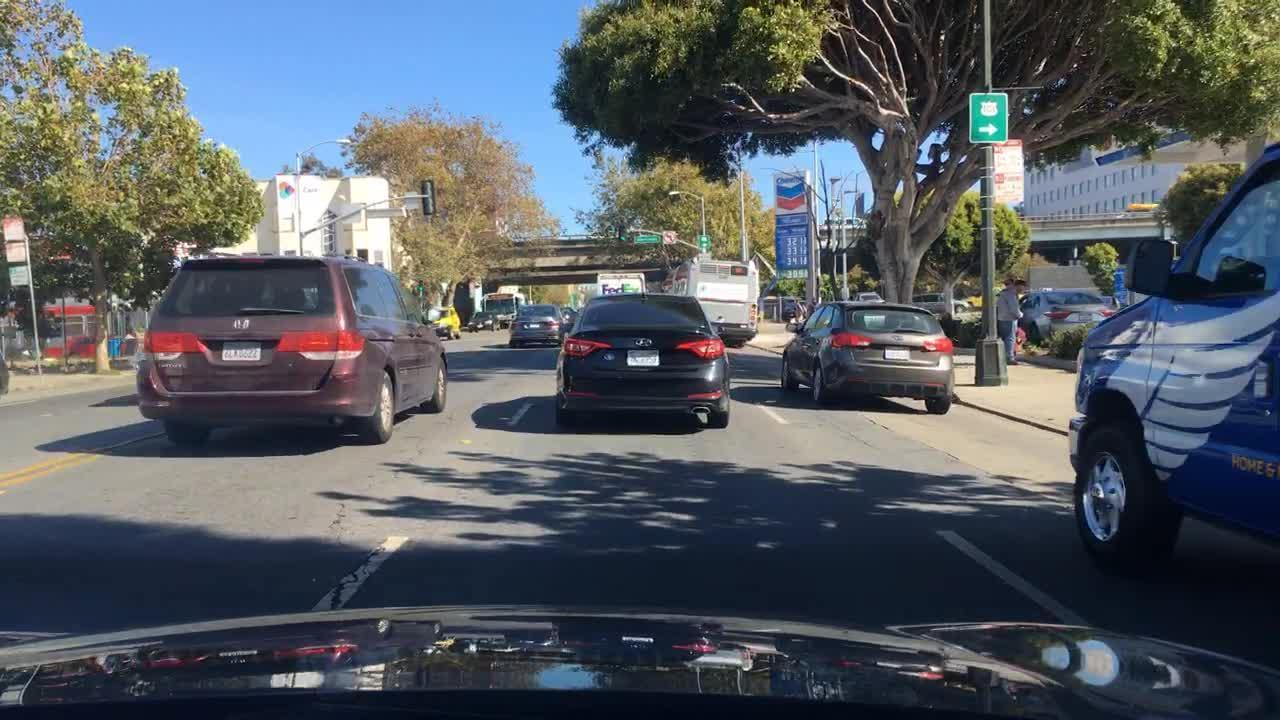Honda: (229, 314, 258, 336)
Hyundai: (634, 331, 656, 353)
